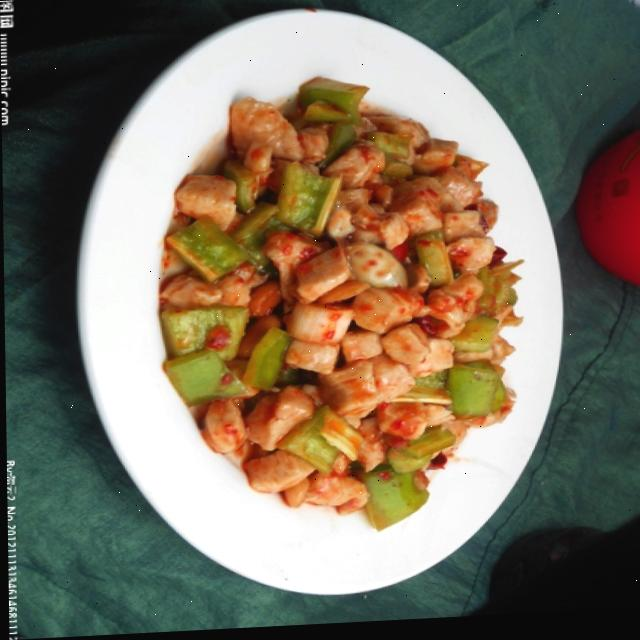鸡肉料理 含炸鸡: (70, 0, 610, 601)
